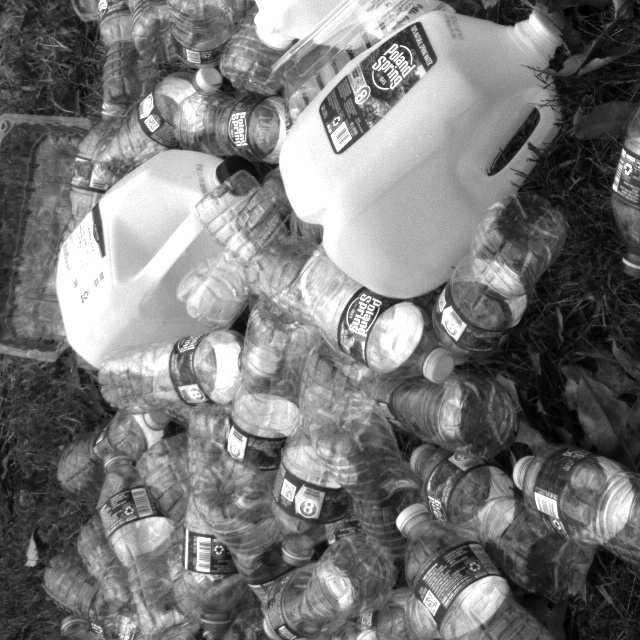bottle: (240, 247, 458, 386), (392, 508, 584, 640), (263, 365, 372, 567), (222, 301, 321, 512), (92, 454, 197, 640), (175, 406, 253, 640), (93, 72, 225, 200), (506, 452, 640, 570), (257, 539, 401, 640), (97, 329, 256, 413), (54, 396, 171, 497), (121, 0, 186, 126), (42, 555, 102, 619)
can: (276, 12, 572, 300), (51, 150, 256, 373), (237, 0, 474, 56)
container: (0, 107, 95, 365)
